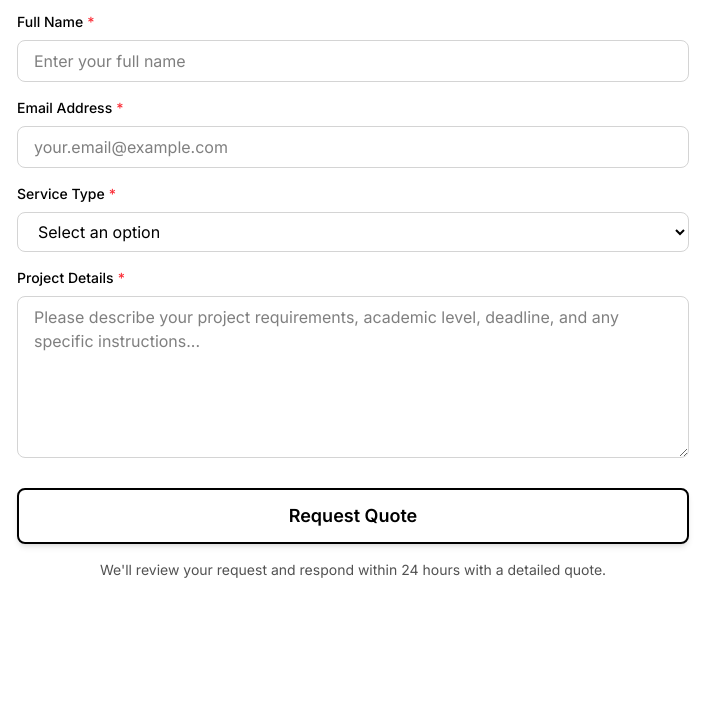
Test case: QuoteForm Component › displays error message on submission failure
// Fill in form
Type "John Doe" into the field labelled "Full Name*" at {"x": 353, "y": 61}, box [17,40,689,82]
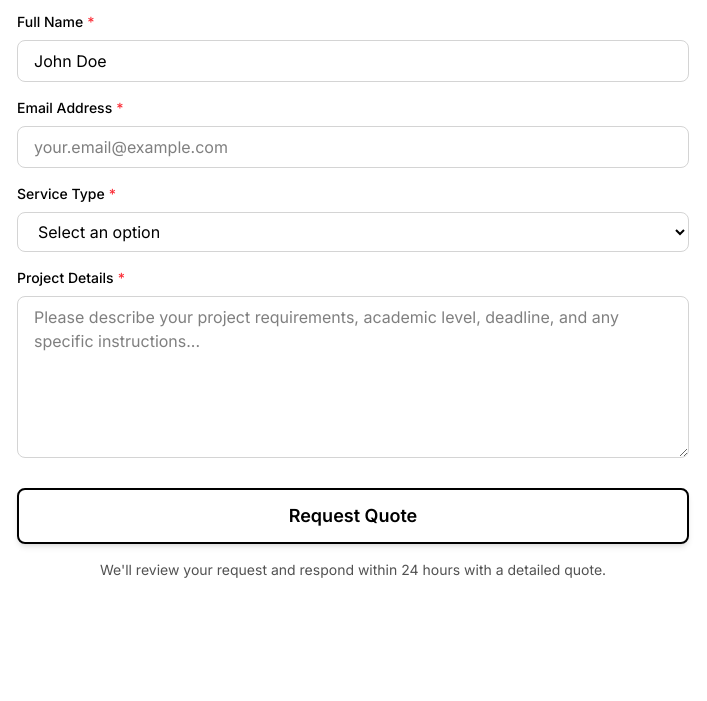
Type "john@example.com" into the field labelled "Email Address*" at {"x": 353, "y": 147}, box [17,126,689,168]
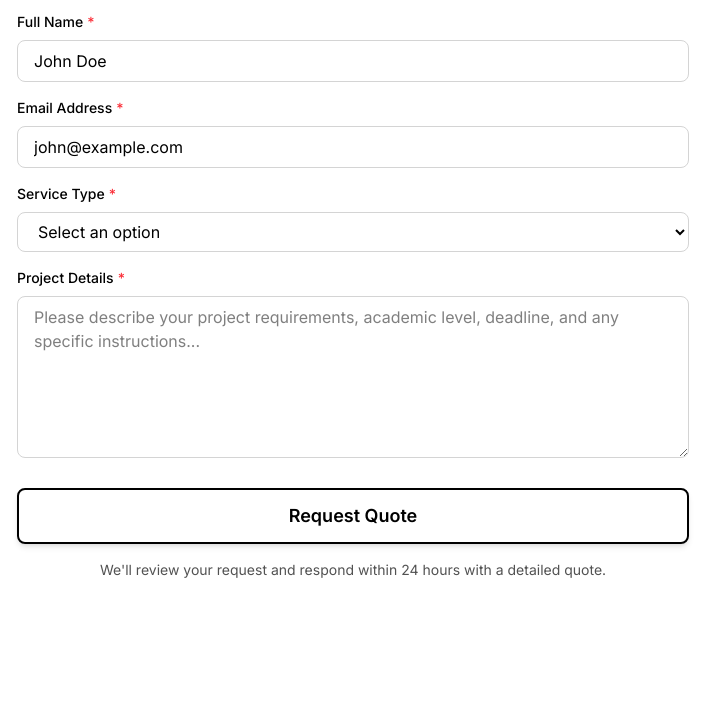
Select "Assignment Writing" in the dropdown labelled "Service Type*" at {"x": 353, "y": 232}, box [17,212,689,252]
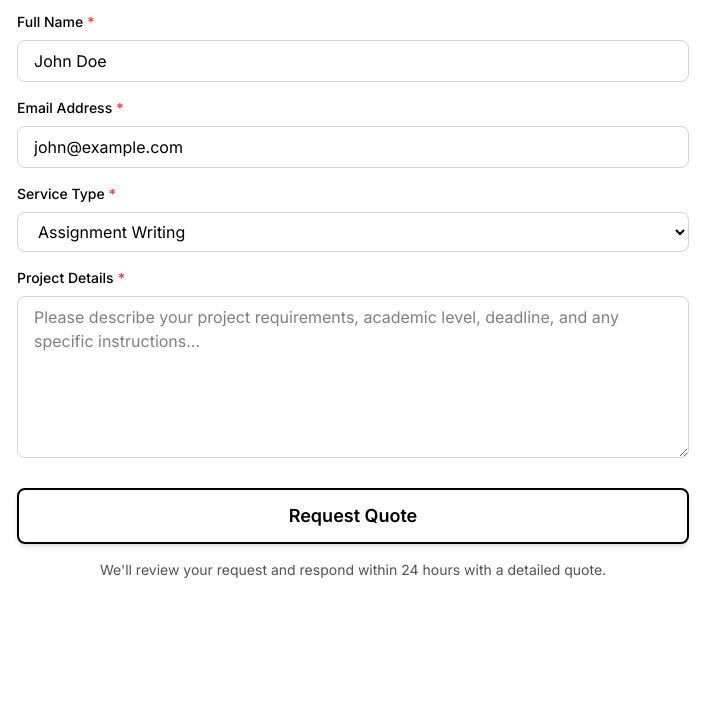
Replace the text in the text box labelled "Project Details*" with "I need help with my assignment on computer science" at {"x": 353, "y": 377}, box [17,296,689,458]
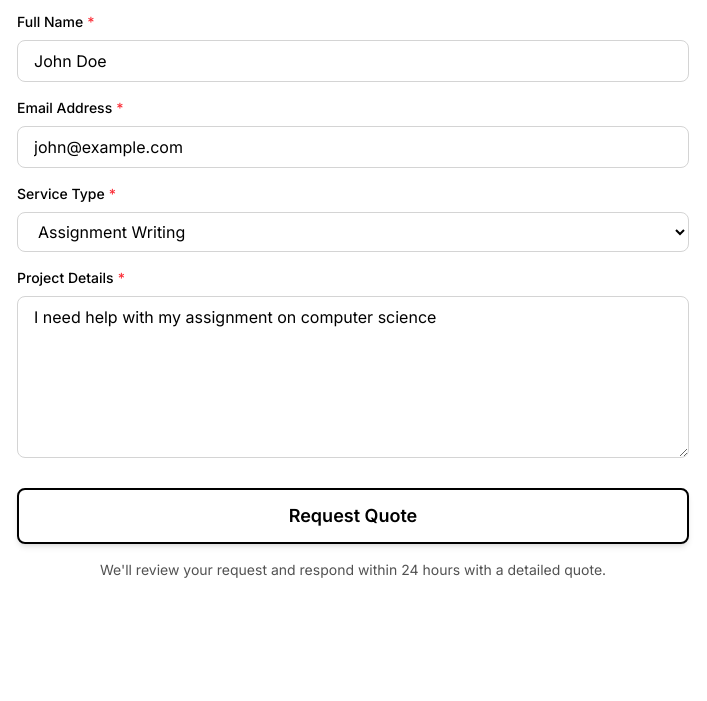
// Submit form
Click the button "Request Quote" at {"x": 353, "y": 516}, box [17,488,689,544]
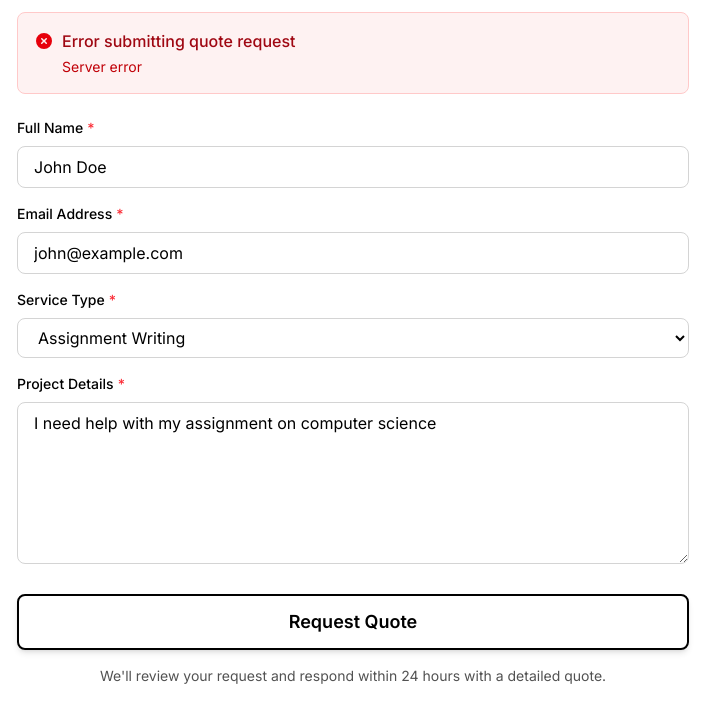
expect the text "Error submitting quote request" is shown: met, box [62,31,296,51]
expect the text "Server error" is shown: met, box [62,58,142,75]
